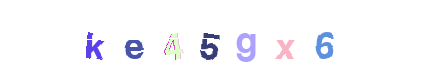4: (136, 0, 216, 80)
5: (177, 0, 257, 80)
6: (260, 0, 340, 80)
E: (130, 0, 210, 80)
G: (187, 0, 267, 80)
K: (52, 0, 132, 80)
X: (200, 0, 280, 80)
